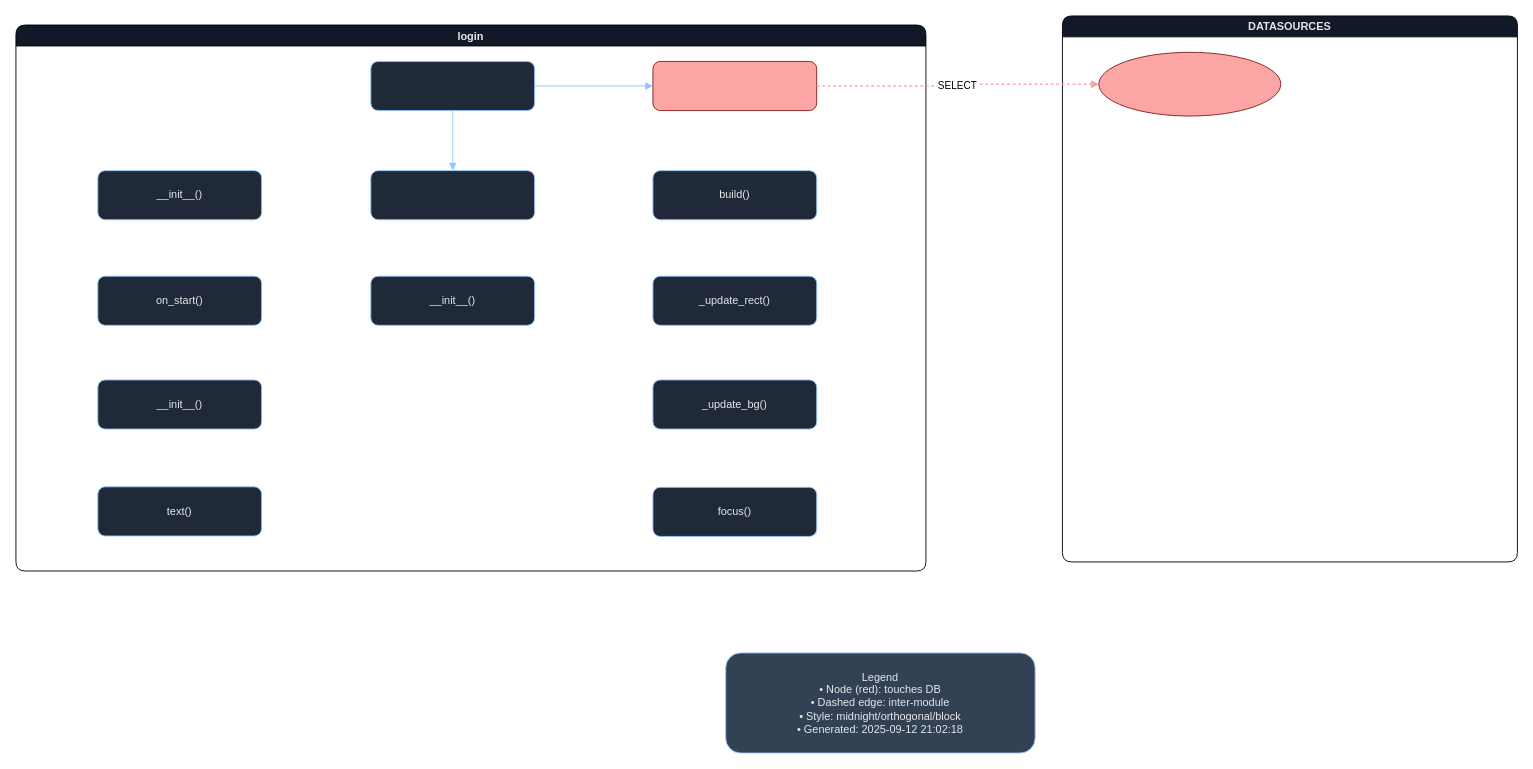
Some shapes in this 1533 by 769 pixel diagram are drawn without their labels. Here are the shapes that lost their labels. From the top down, the centre of each, then its label:
At pixel 452 86: "_on_login()".
At pixel 734 86: "fetch_password_hash()".
At pixel 1189 83: "DB: DB".
At pixel 452 195: "check_password()".
